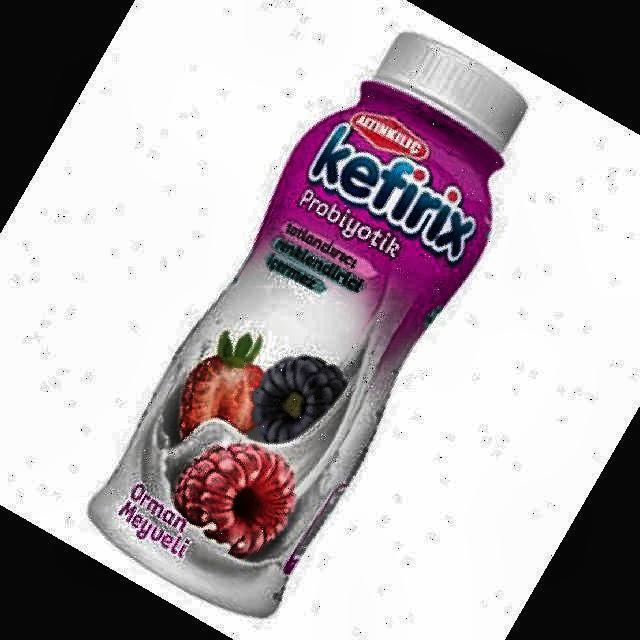plastic: (90, 36, 525, 616)
